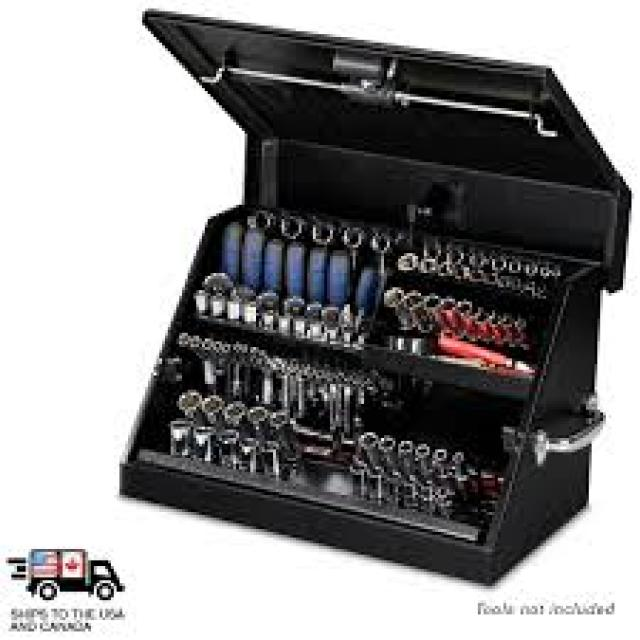car: (9, 551, 146, 614)
tool_box: (94, 11, 636, 556)
